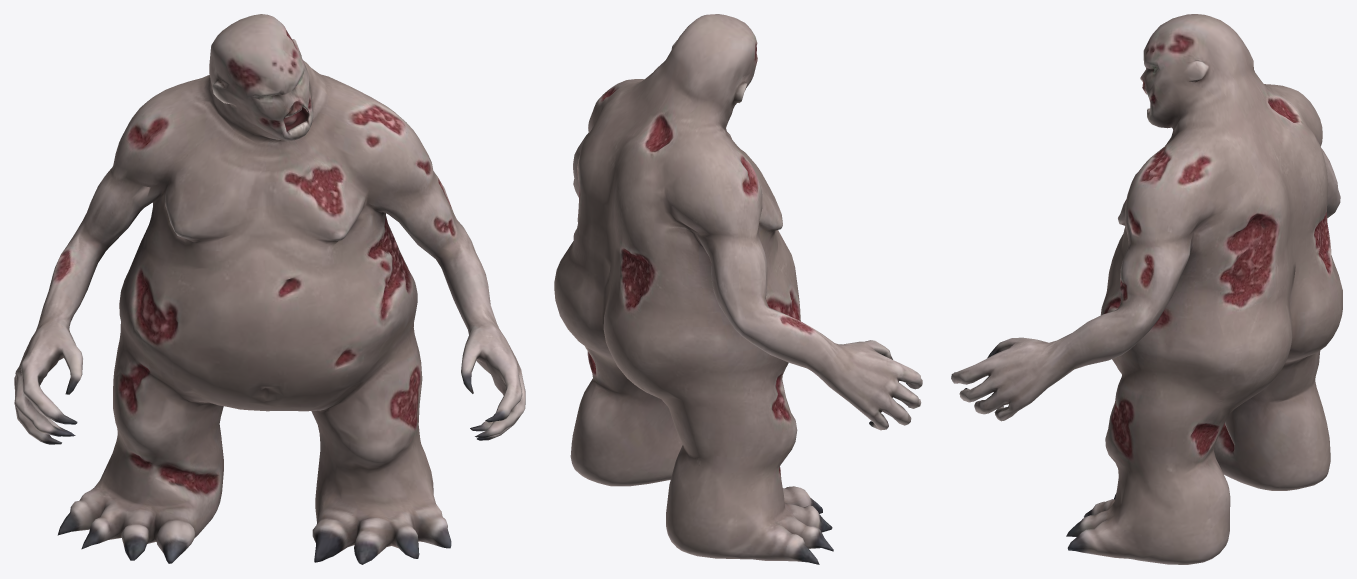
The model's file is MZ4250 - Manes.glb.
3 views of the same model, side by side, from view 1: azimuth 30°, elevation 25°; view 2: azimuth 150°, elevation 25°; view 3: azimuth 270°, elevation 25° (orthographic). The views are drawn at different scales.
Parts seen in each view (by area): view 1: gpmanes01; view 2: gpmanes01; view 3: gpmanes01.
Part boxes in pixels (x1=…): gpmanes01: x1=14, y1=14, x2=525, y2=564; gpmanes01: x1=554, y1=14, x2=922, y2=564; gpmanes01: x1=951, y1=14, x2=1342, y2=564.
Bounding box in the file's own units: 0.4484 × 0.5419 × 0.3967.
1 material, 1 textured.
